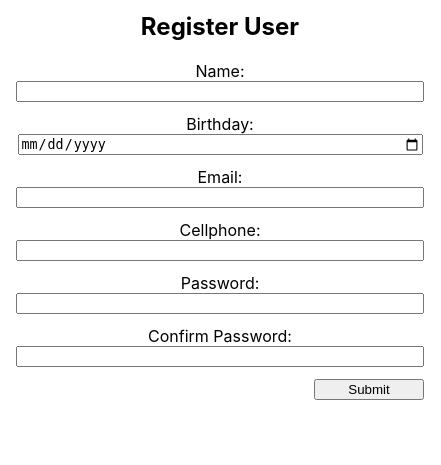
Scenario: Form Submission Test › given a empty form, when filled, the submission should be acknowledged
Type "Victor Silva" into the field labelled "Name:".
click(220, 91); type("Victor Silva")  # box top-left (16, 81), bottom-right (424, 102)
Type "1994-06-09" into the date field labelled "Birthday:".
click(220, 144); type("1994-06-09")  # box top-left (18, 134), bottom-right (422, 155)
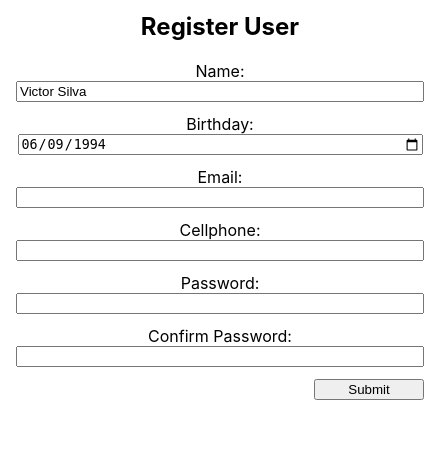
Type "victor@email.com" into the field labelled "Email:".
click(220, 198); type("victor@email.com")  # box top-left (16, 187), bottom-right (424, 208)
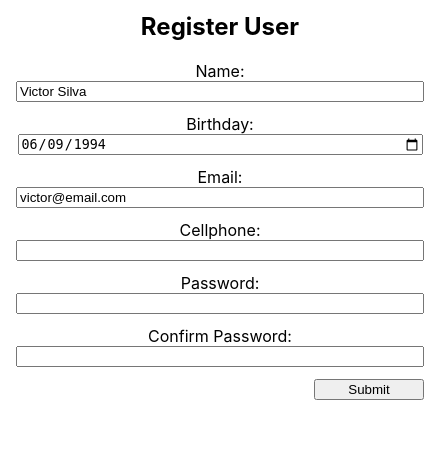
Type "34999998888" into the field labelled "Cellphone:".
click(220, 251); type("34999998888")  # box top-left (16, 240), bottom-right (424, 261)
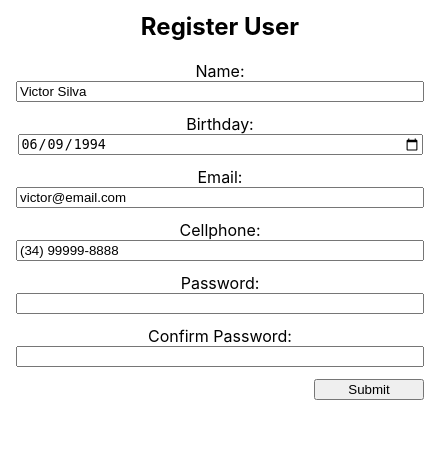
Type "Password123!" into the password field labelled "Password:".
click(220, 304); type("Password123!")  # box top-left (16, 293), bottom-right (424, 314)
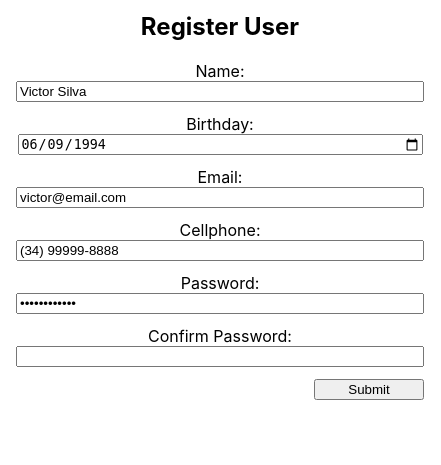
Type "Password123!" into the password field labelled "Confirm Password:".
click(220, 357); type("Password123!")  # box top-left (16, 346), bottom-right (424, 367)
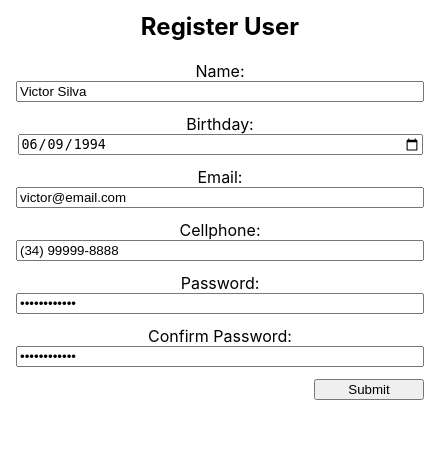
Click the button "Submit".
click(369, 390)  # box top-left (314, 379), bottom-right (424, 400)
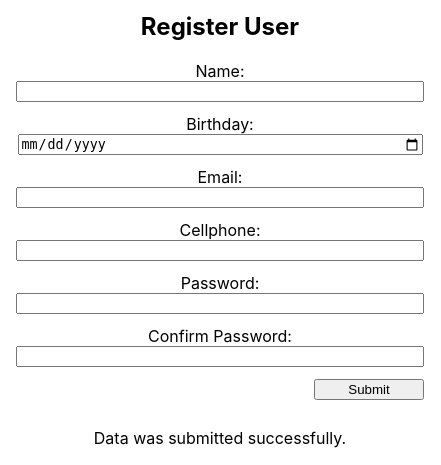
Now the text "Data was submitted successfully." is shown, box top-left (94, 428), bottom-right (346, 448)
